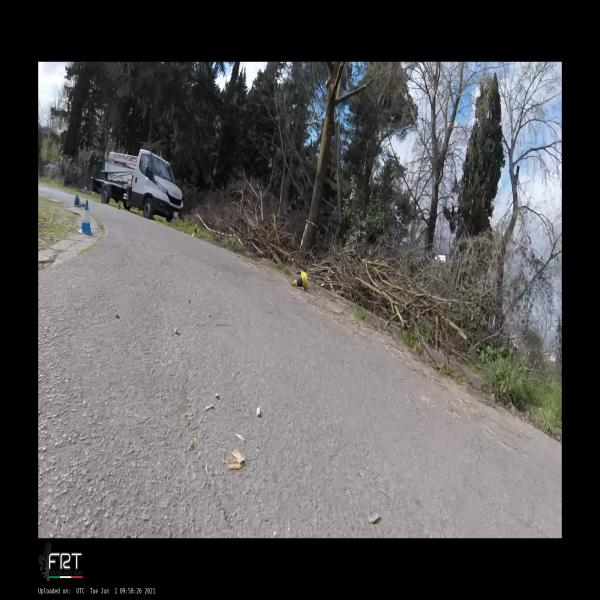blue_cone: (78, 200, 94, 235), (74, 194, 85, 206)
yellow_cone: (292, 271, 307, 290), (192, 223, 197, 237)
